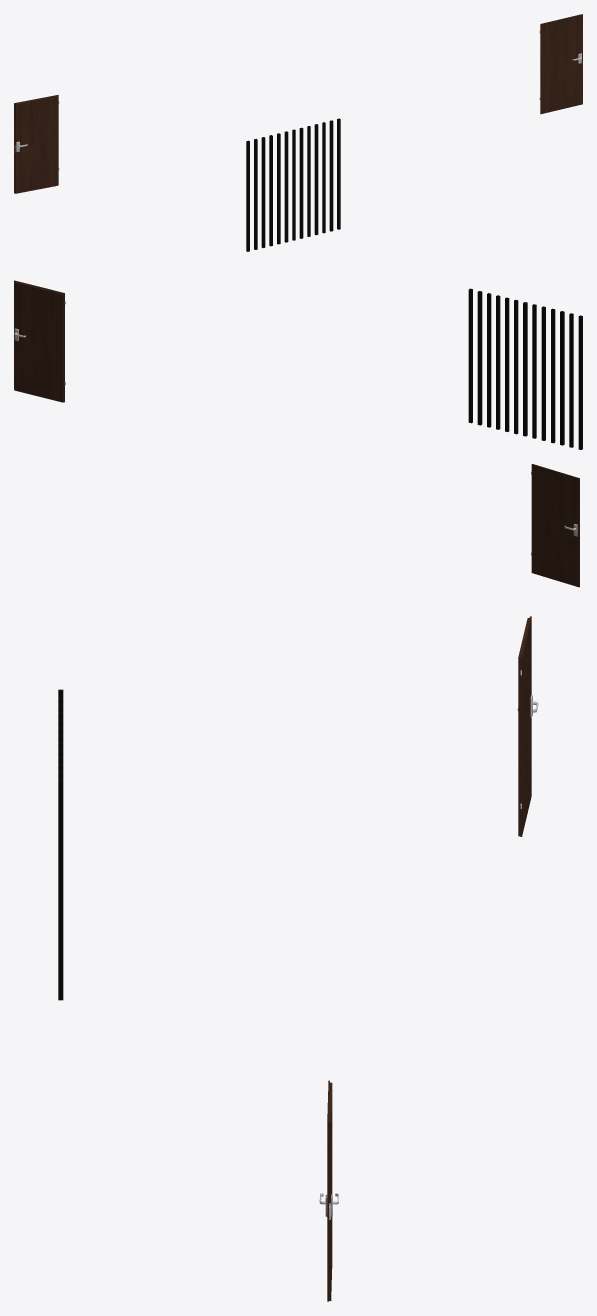
Rendered from CombinedMesh-MeshBaker (8)-mesh.fbx.
3 renders of one model, top to bottom at view 1: azimuth 30°, elevation 25°; view 2: azimuth 150°, elevation 25°; view 3: azimuth 270°, elevation 25°, orthographic. The views are drawn at different scales.
Parts seen in each view (by area): view 1: MeshBaker__8__mesh_mesh; view 2: MeshBaker__8__mesh_mesh; view 3: MeshBaker__8__mesh_mesh.
Part boxes in pixels (x1,y1,x2,y2): MeshBaker__8__mesh_mesh: (14, 14, 582, 251); MeshBaker__8__mesh_mesh: (14, 280, 582, 587); MeshBaker__8__mesh_mesh: (58, 616, 538, 1301).
Size of the model in its own units: 1201 by 243 by 482.
